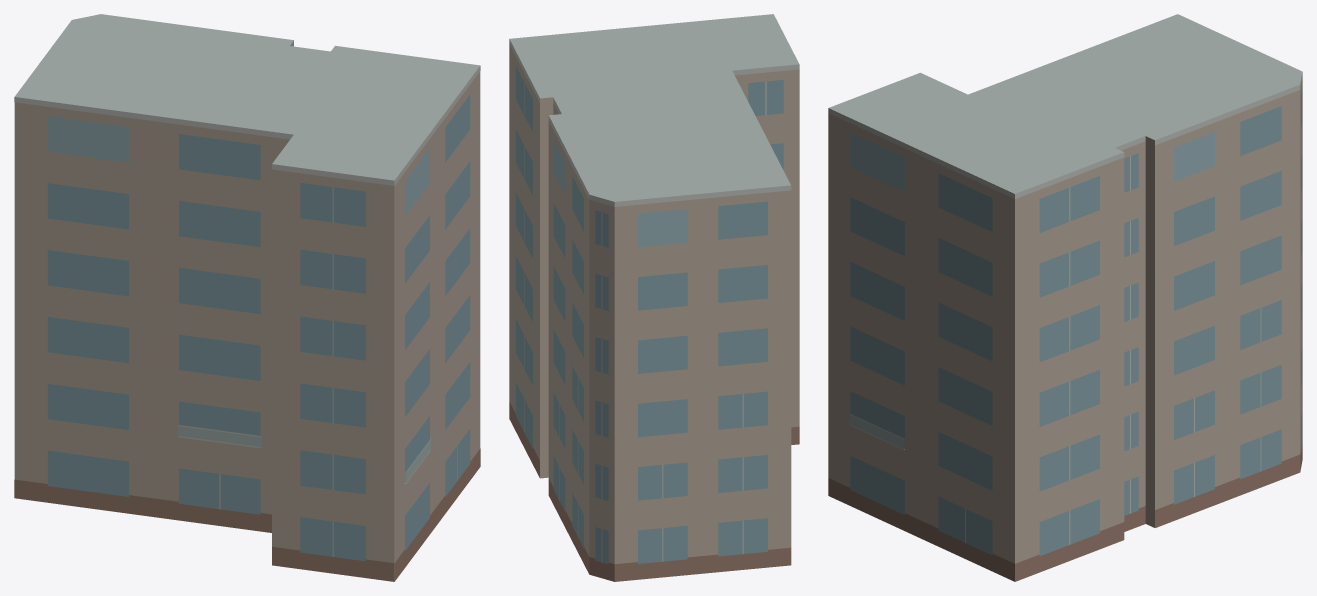
The model's file is survey-upis-32833076.glb.
The picture shows the model from 3 angles, left to right: view 1: azimuth 30°, elevation 25°; view 2: azimuth 150°, elevation 25°; view 3: azimuth 270°, elevation 25°; orthographic projection. The views are drawn at different scales.
Parts seen in each view (by area): view 1: survey-upis-32833076.tmp; view 2: survey-upis-32833076.tmp; view 3: survey-upis-32833076.tmp.
Part boxes in pixels (x1,y1,x2,y2): survey-upis-32833076.tmp: (14,14,480,581); survey-upis-32833076.tmp: (509,14,799,581); survey-upis-32833076.tmp: (828,14,1302,581).
Size of the model in its own units: 18.23 by 18.3 by 20.29.
